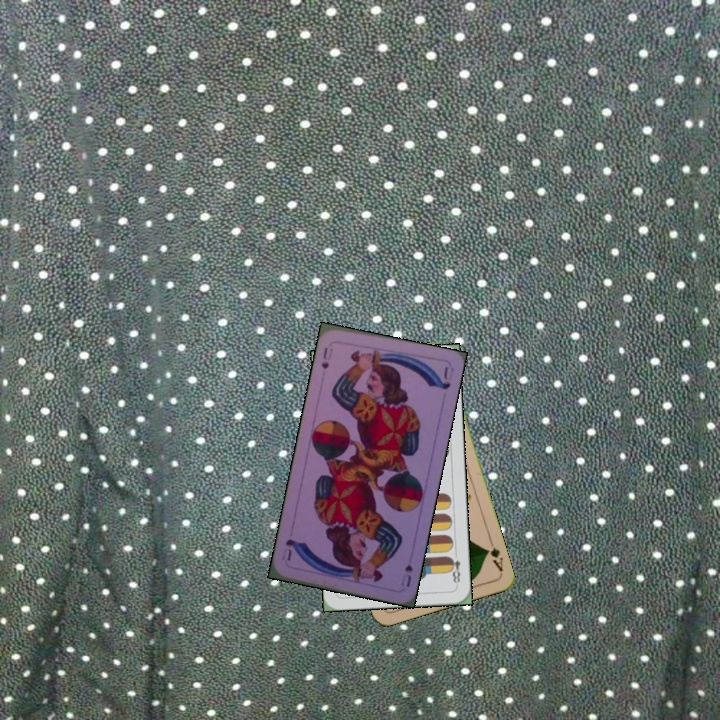E8: (445, 548, 463, 588)
GA: (482, 536, 506, 574)
SU: (397, 560, 415, 590), (317, 343, 335, 372)
